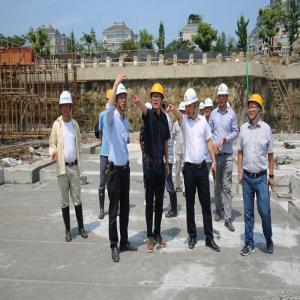white: (59, 89, 73, 119), (184, 89, 198, 119), (116, 83, 129, 114), (217, 84, 229, 109), (205, 99, 214, 118), (179, 103, 186, 119), (200, 101, 206, 116)
yellow: (248, 94, 264, 123), (151, 83, 165, 111)
